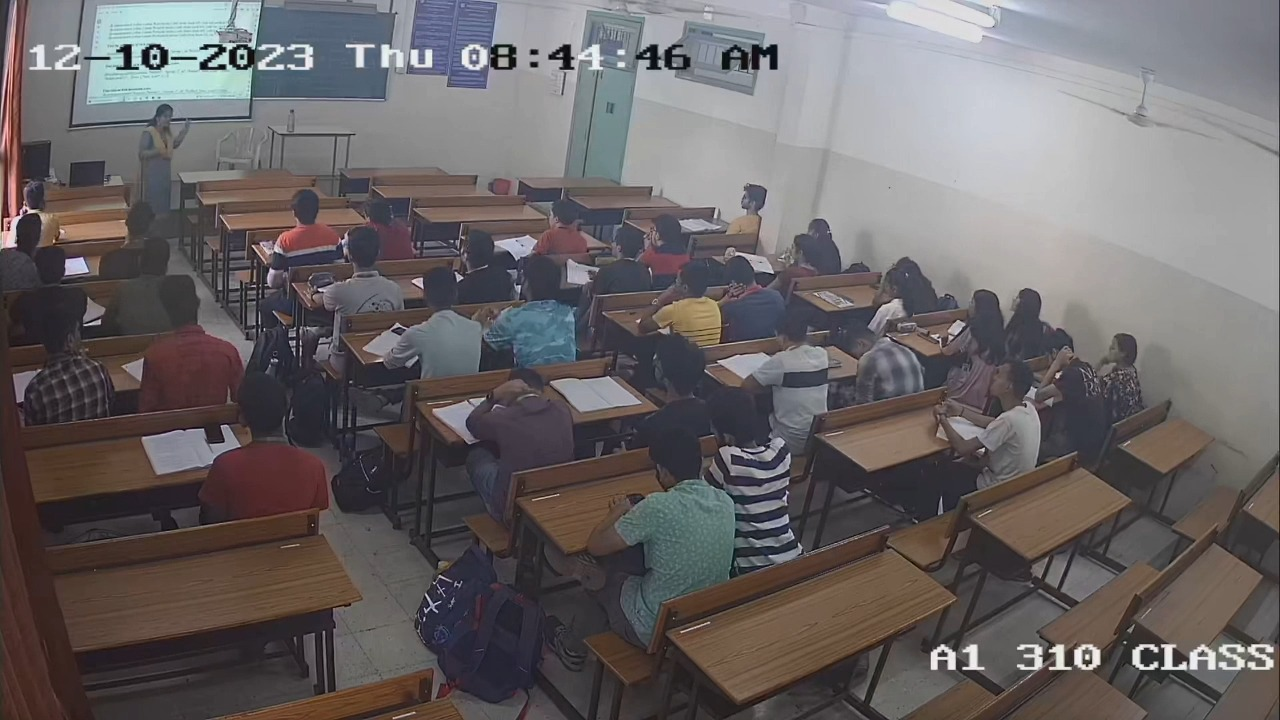cell-phones: (203, 420, 225, 445), (623, 491, 648, 506), (594, 253, 621, 266), (391, 325, 412, 339)
person: (199, 371, 329, 517), (614, 439, 737, 576), (383, 266, 483, 378), (638, 213, 697, 291)
